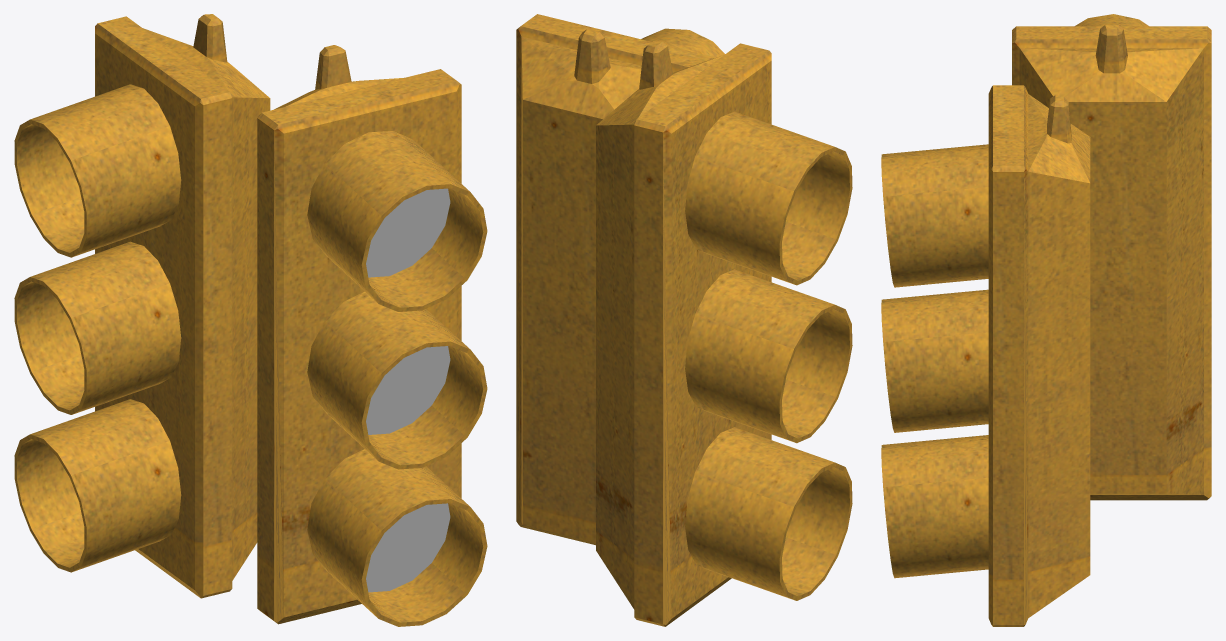
Rendered from DT_Trafficlight_housing_double_01.fbx.
3 renders of one model, left to right at view 1: azimuth 30°, elevation 25°; view 2: azimuth 150°, elevation 25°; view 3: azimuth 270°, elevation 25°, orthographic. The views are drawn at different scales.
Parts seen in each view (by area): view 1: DT_Trafficlight_housing_double_01; view 2: DT_Trafficlight_housing_double_01; view 3: DT_Trafficlight_housing_double_01.
Part boxes in pixels (x1=…): DT_Trafficlight_housing_double_01: x1=14, y1=14, x2=487, y2=626; DT_Trafficlight_housing_double_01: x1=516, y1=14, x2=852, y2=626; DT_Trafficlight_housing_double_01: x1=881, y1=14, x2=1211, y2=626.
Size of the model in its own units: 84.25 by 128 by 74.01.
